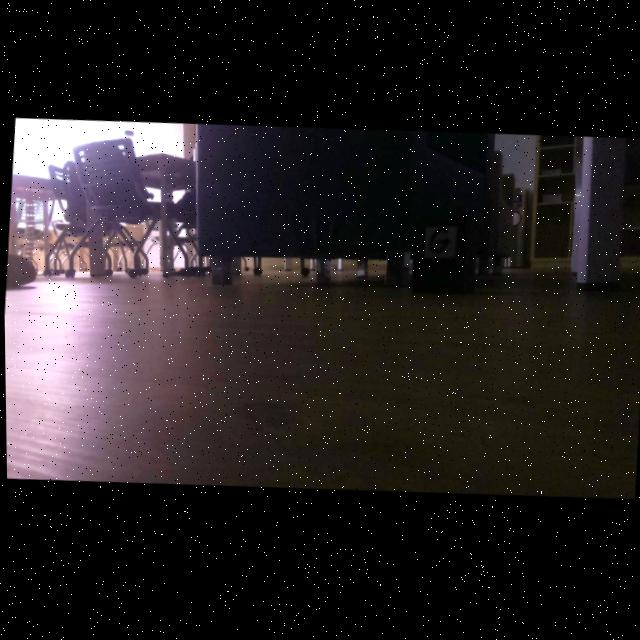G: (428, 232, 449, 256)
